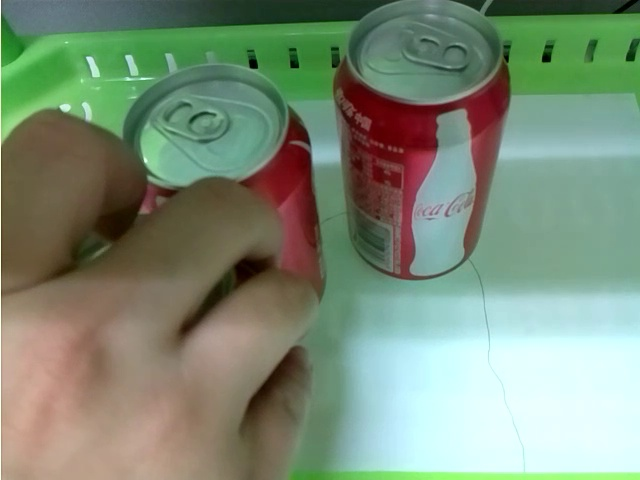cocacola: (329, 2, 516, 281), (129, 62, 328, 299)
hand: (1, 107, 315, 476)
